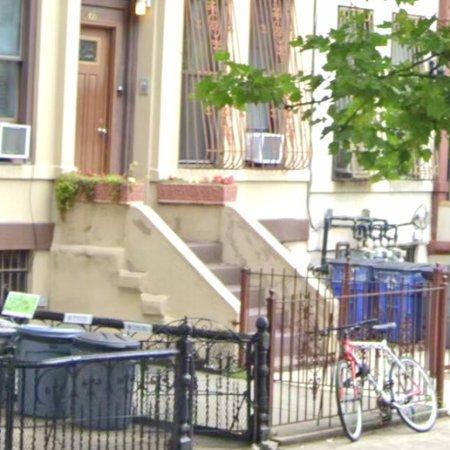stairs: (189, 243, 318, 368)
